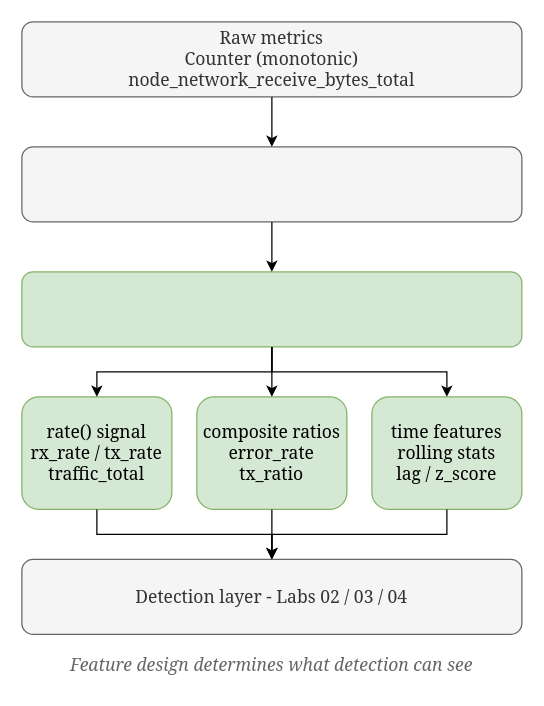
This 544x706 diagram has some shape labels left out. The shapes that lost their labels are listed below. From the top down, each one's centre as x and y in pixels, then its label:
(271,184): Collection layer - Lab 00 Prometheus scrape
(271,309): ▶ Feature engineering - Lab 01
